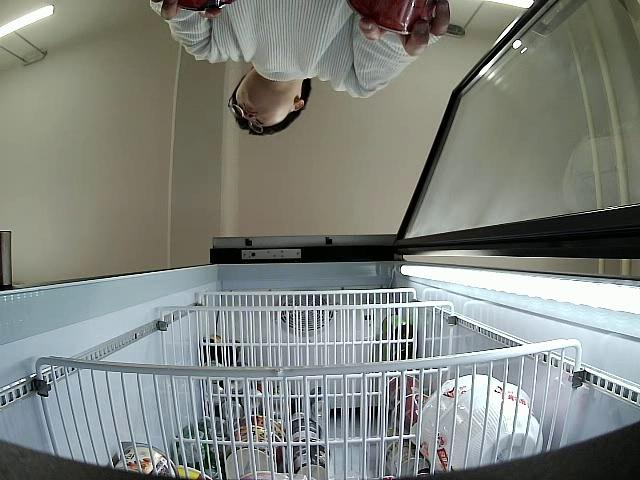00_hand: (357, 0, 451, 56)
02_shinRamen_S: (347, 0, 439, 36), (175, 0, 234, 12)
